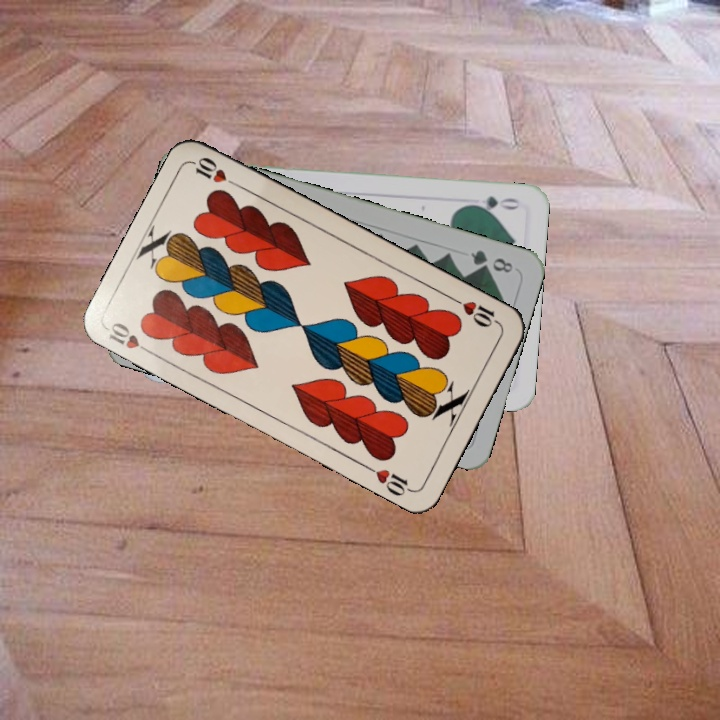G8: (466, 246, 516, 276)
GO: (464, 192, 522, 215)
H10: (104, 318, 157, 359), (448, 293, 503, 330)
